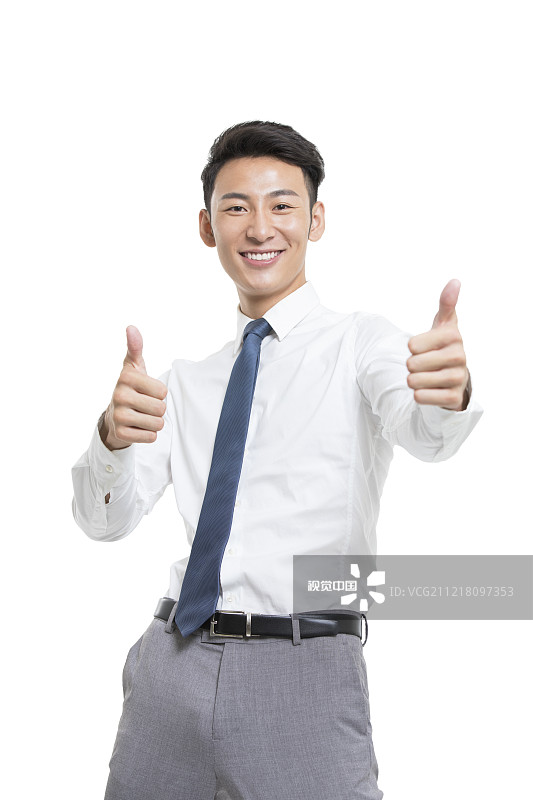no-phone: (393, 262, 486, 432), (87, 308, 182, 460)
